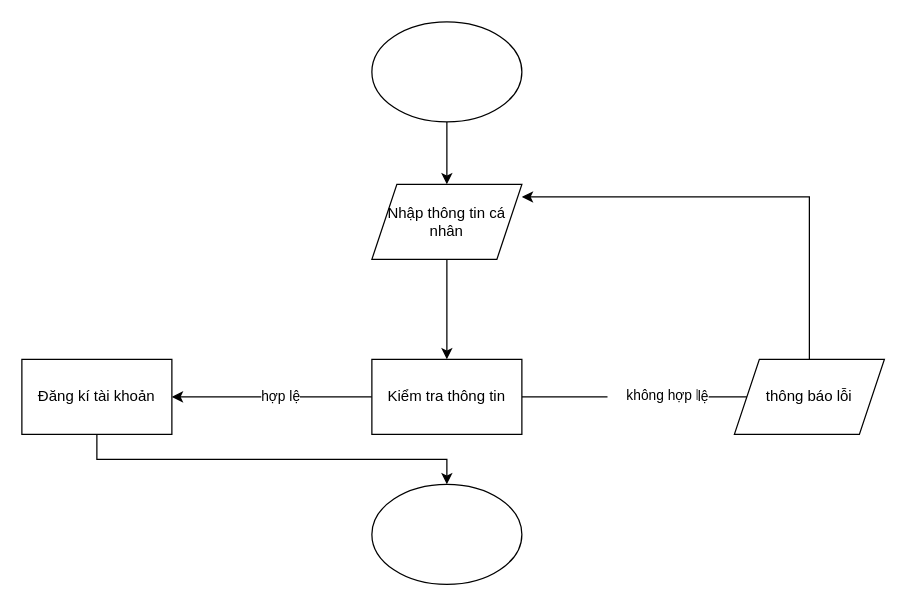
Some shapes in this 906 by 606 pixel diagram are drawn without their labels. The shapes that lost their labels are listed below. From the top down, each one's box as (x1, y1, x2, y2) in pixels, then its label:
(371, 21, 522, 122): Bắt đầu
(371, 483, 522, 584): Kết thúc
